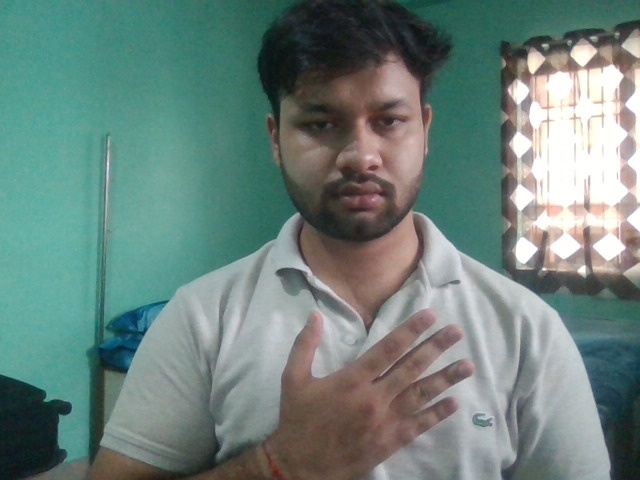Please: (270, 311, 479, 480)
